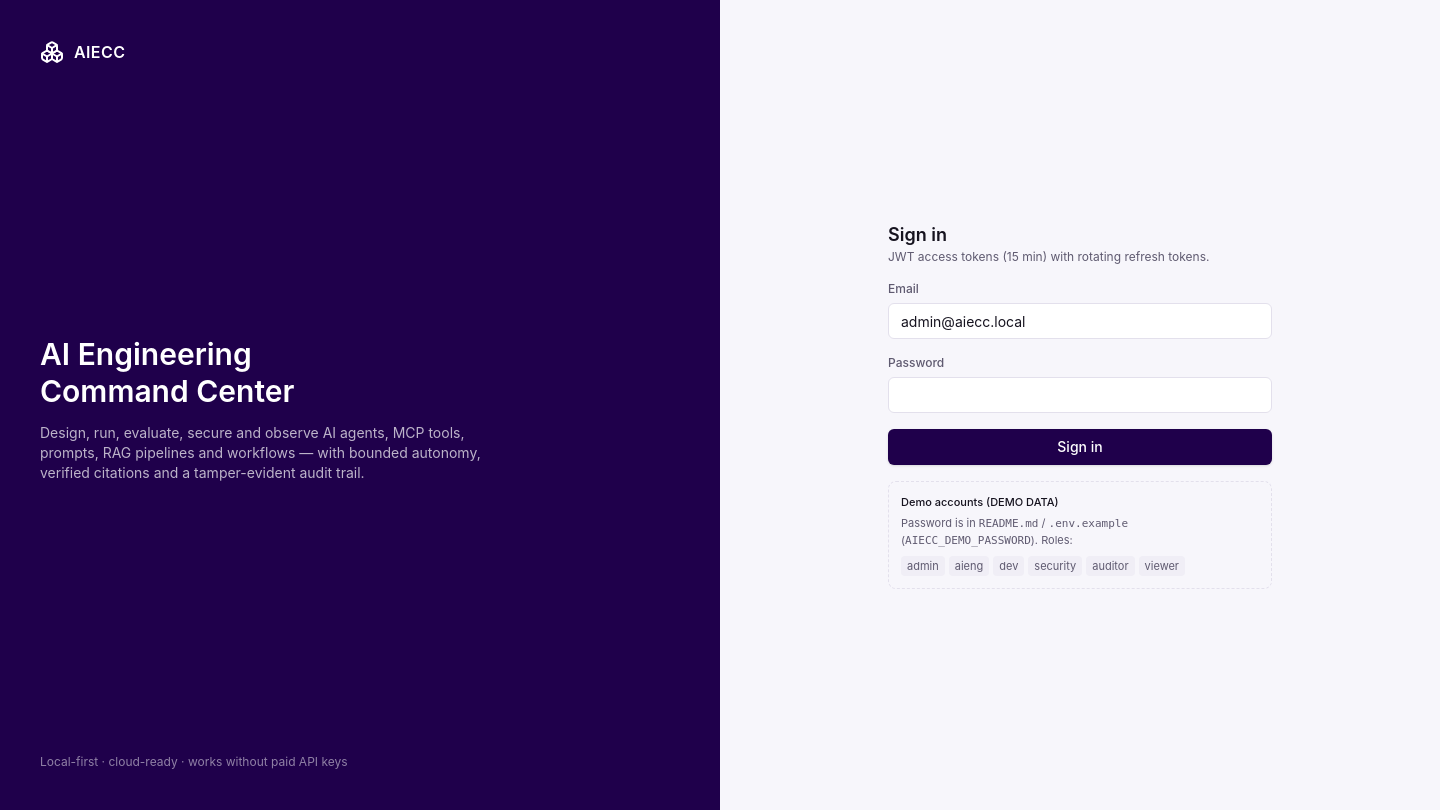
Test: Login › shows a server error without leaking details
Step 1. Type "wrong-password" into the password field labelled "Password" → (1080,395), box [888,377,1272,413]
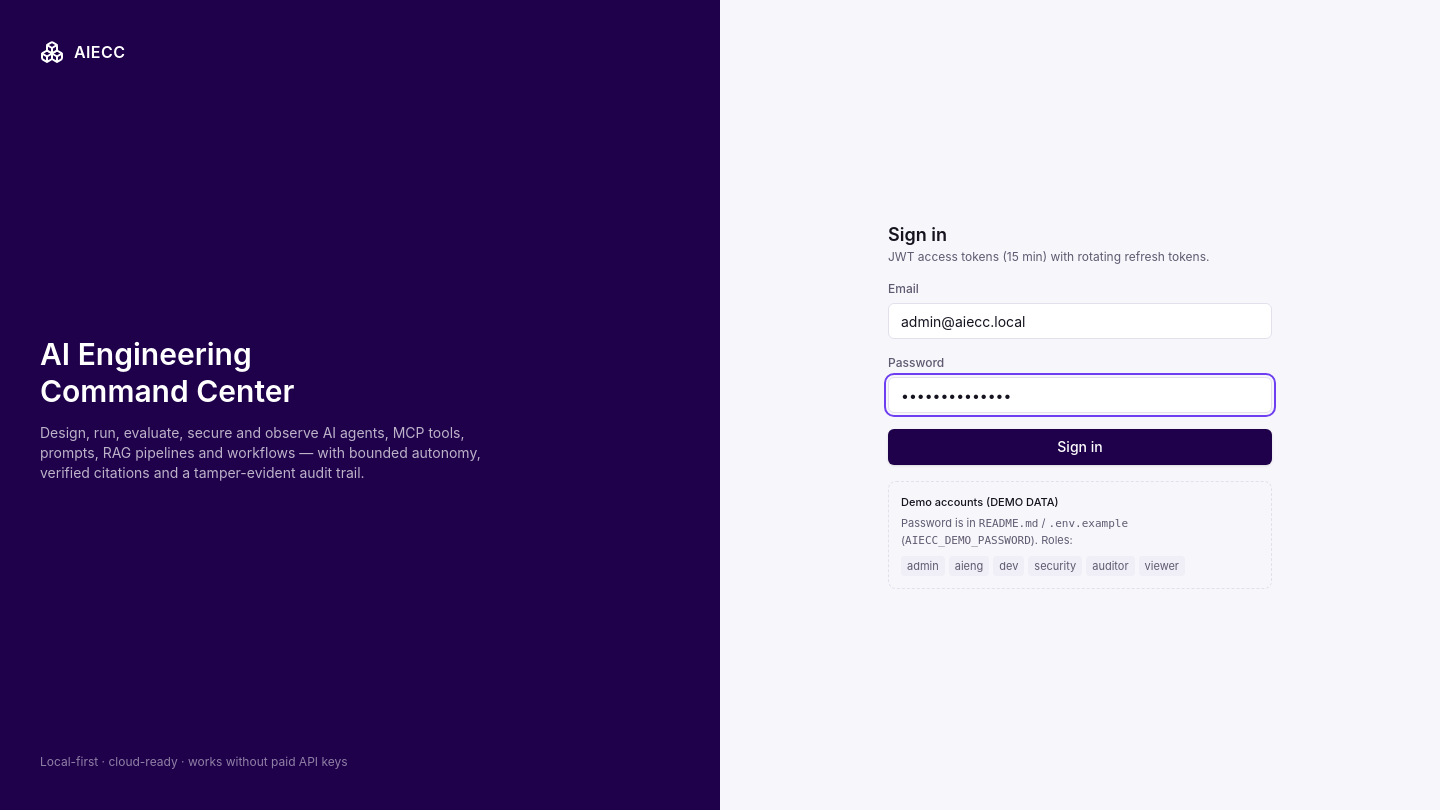
Step 2. Click the button "Sign in" → (1080,447), box [888,429,1272,465]
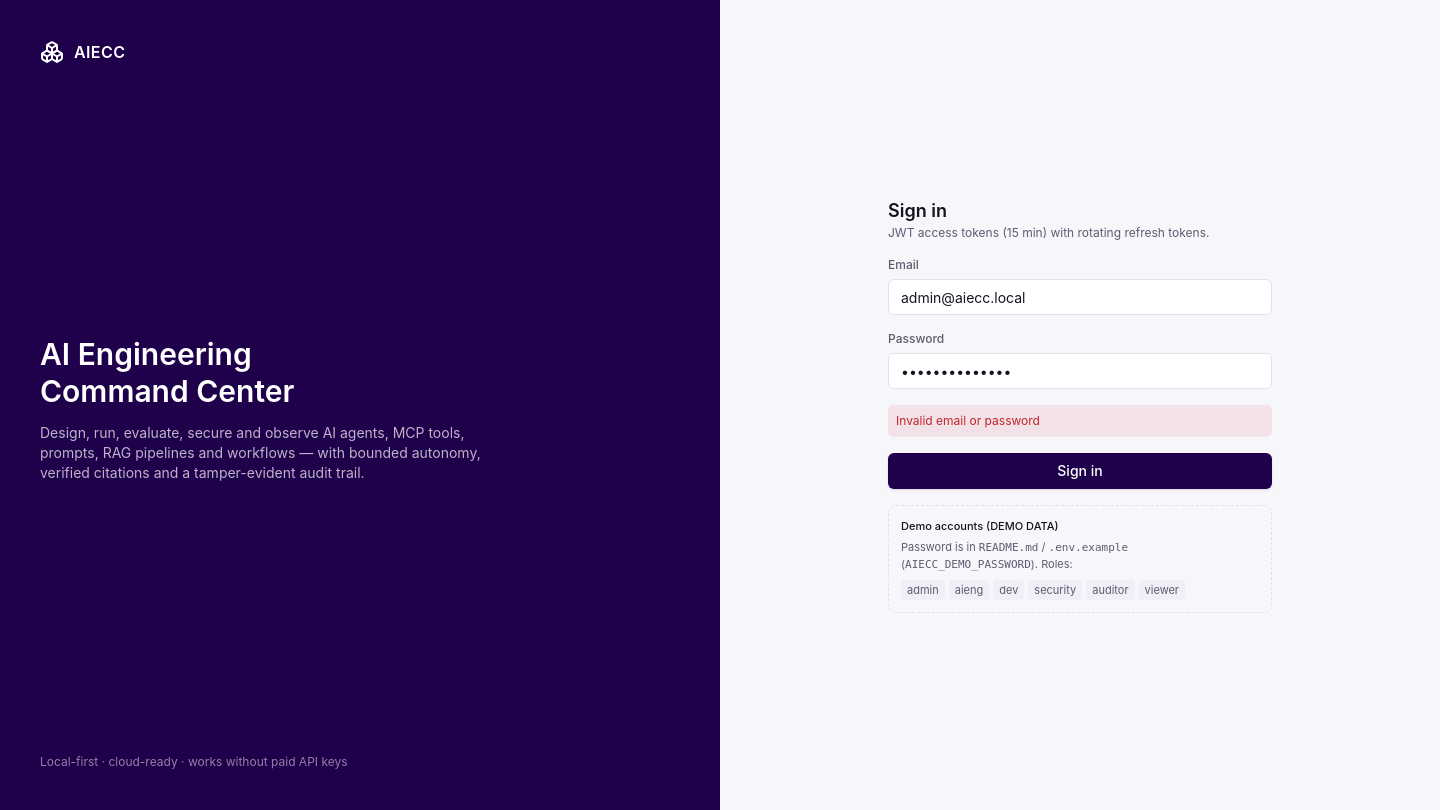
Expected: the message reads "Invalid email or password", [896,413,1040,428]
